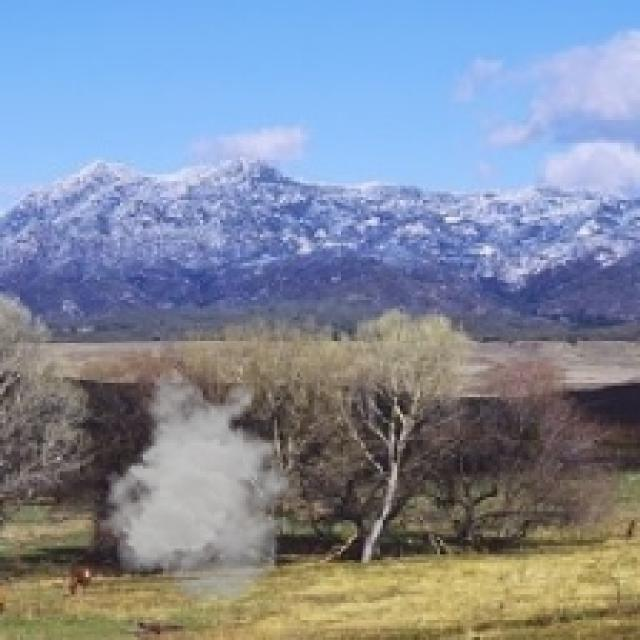smoke: (97, 371, 314, 606)
